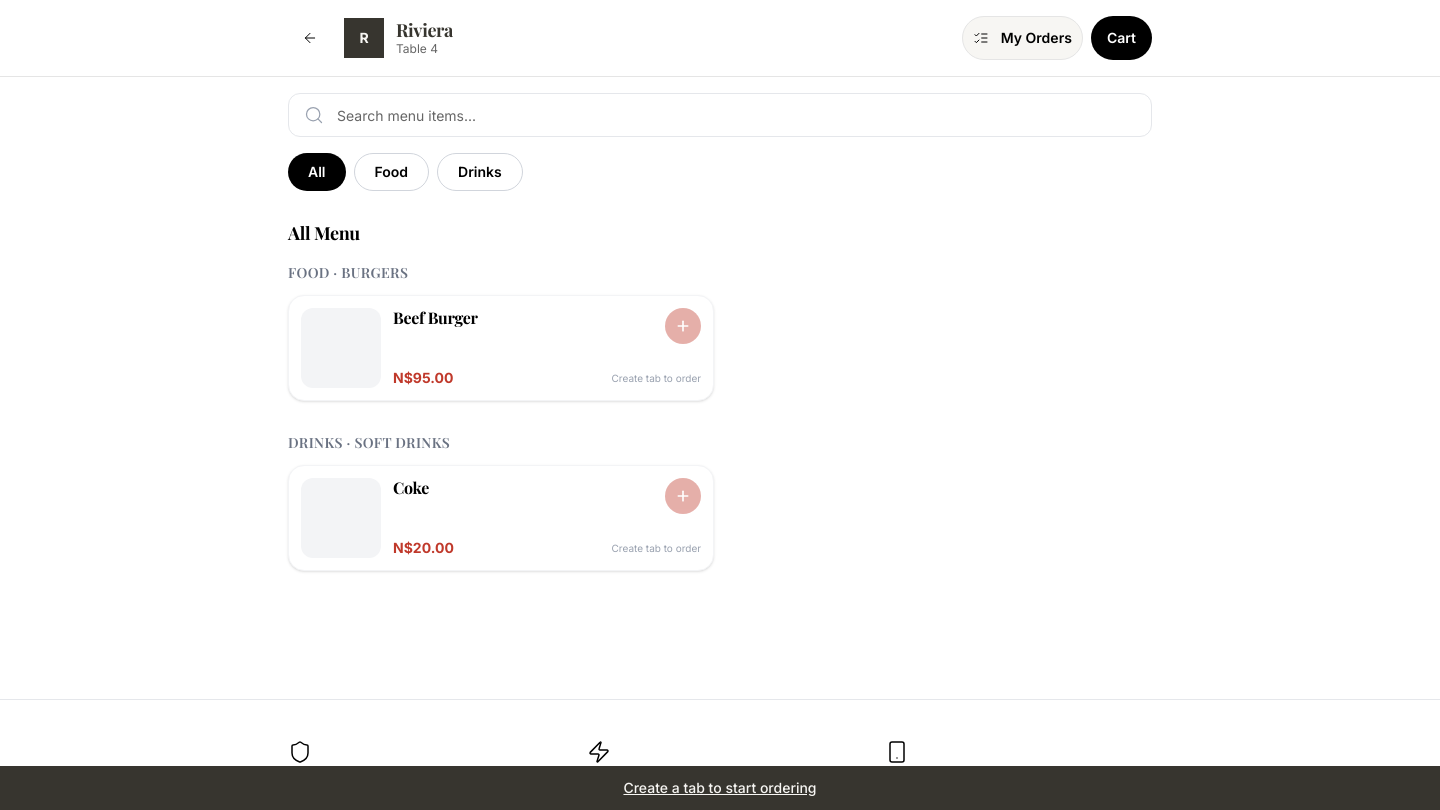
Scenario: #225 — a response for a category the customer has left must not be applied › CONTROL: switching categories with no stale request still shows the new one
Click the button "Food" at [391, 172], box [354,153,429,191]
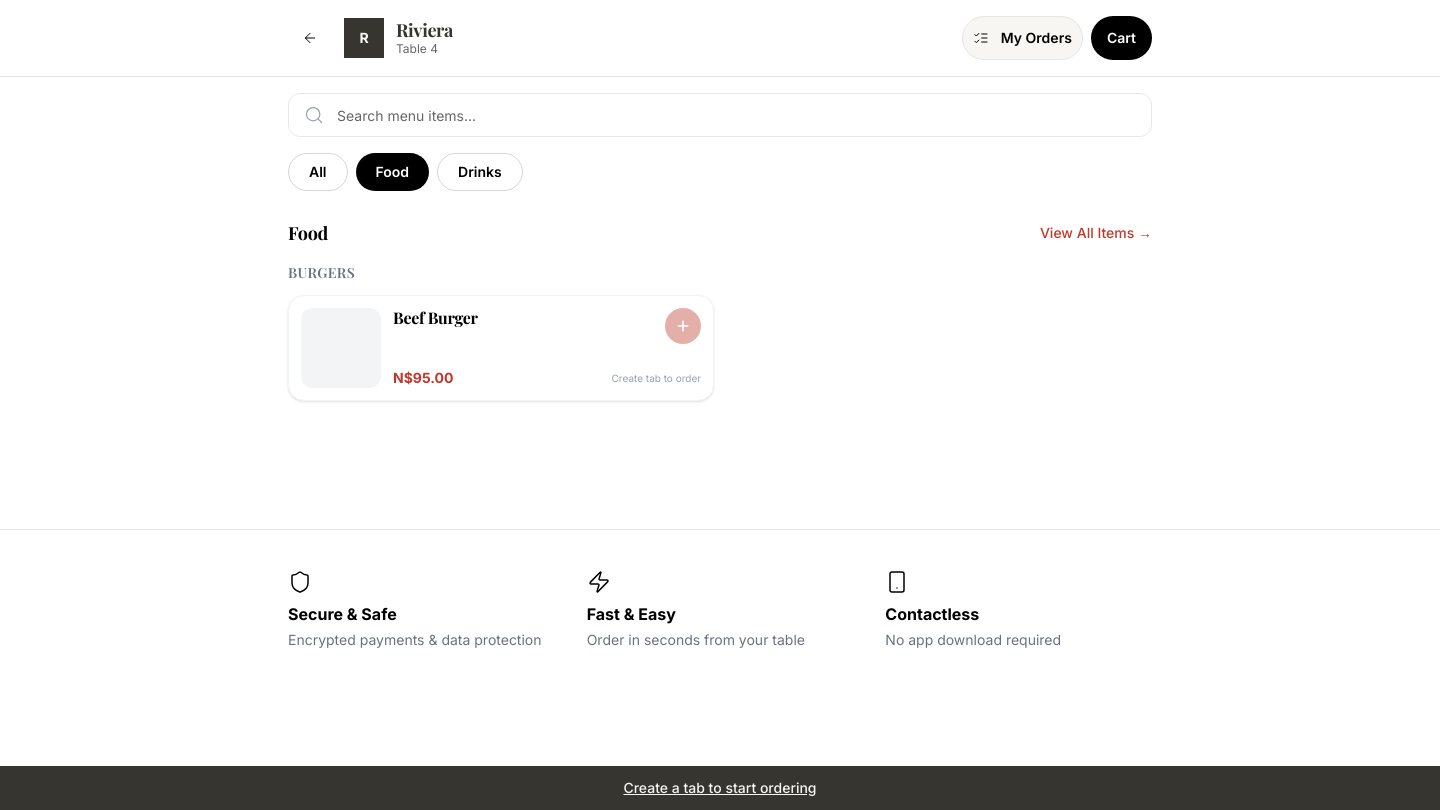
Expected: the text "Beef Burger" is shown, [393,307,478,328]
Click the button "Drinks" at [480, 172], box [437,153,523,191]
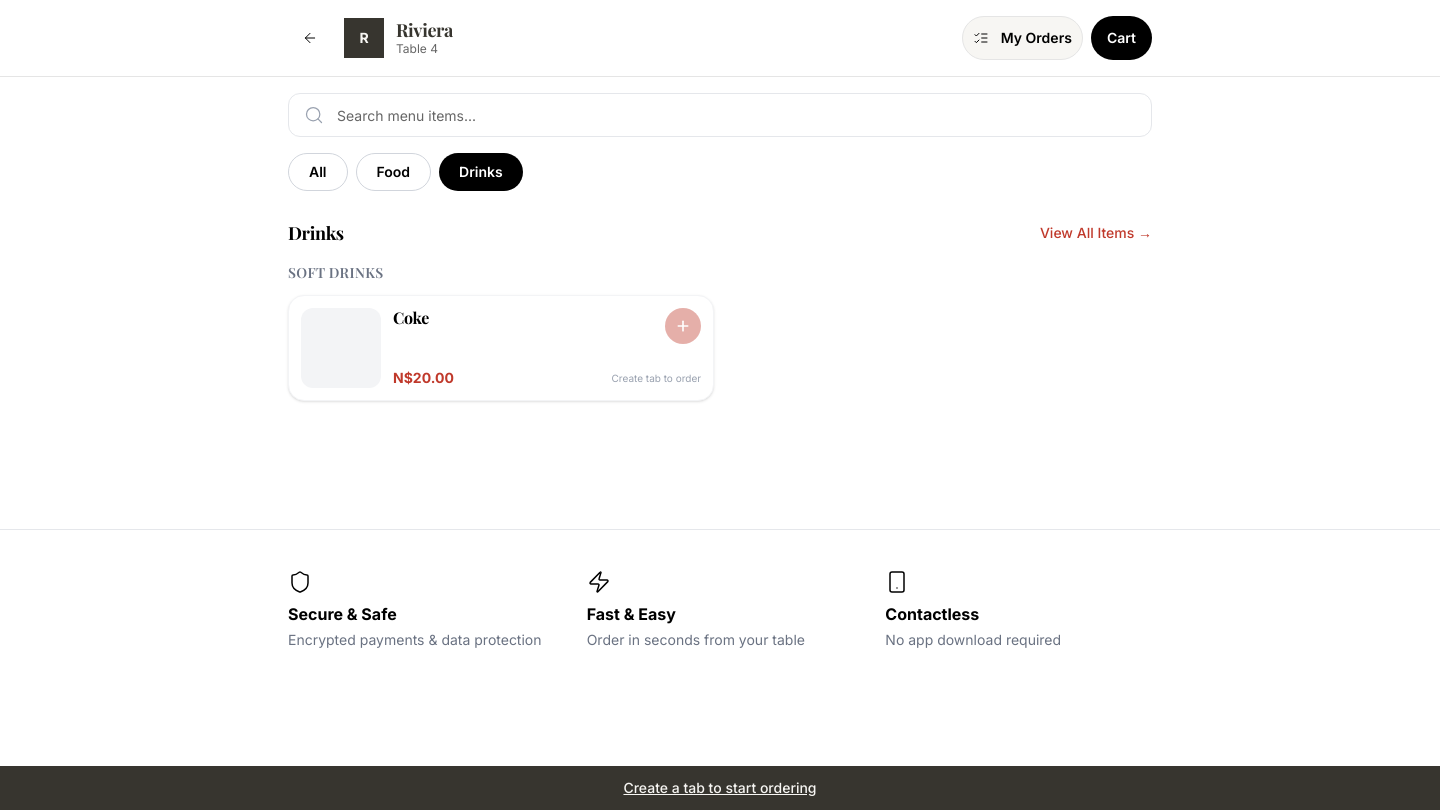
Expected: the text "Coke" is shown, [393,307,429,328]
Expected: the text "Beef Burger" is gone
